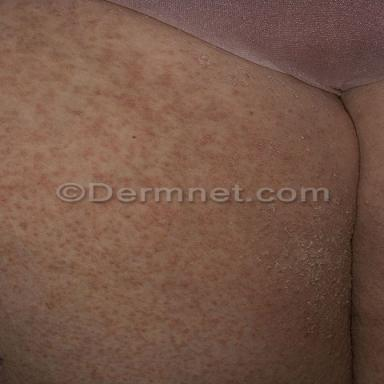Darier_s-Disease: (0, 0, 357, 382)
